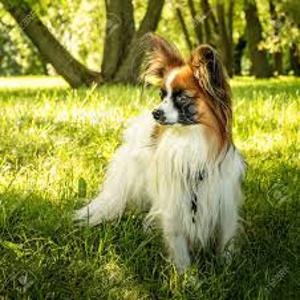yell: (73, 31, 245, 278)
